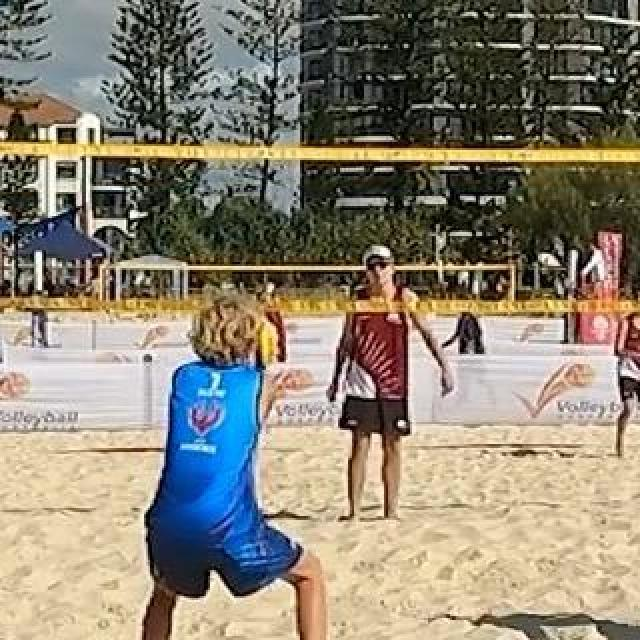volleyball: (218, 309, 280, 375)
